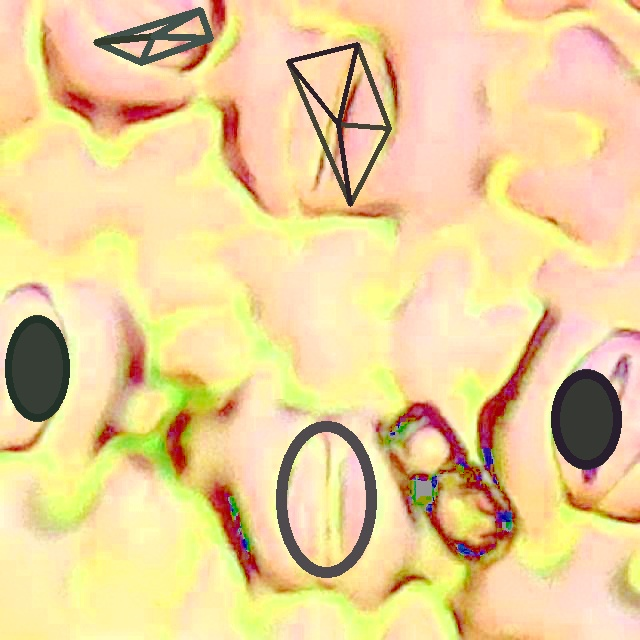close: (5, 315, 69, 421), (94, 7, 212, 64)
open: (286, 42, 391, 206), (276, 422, 377, 576), (551, 369, 621, 469)
